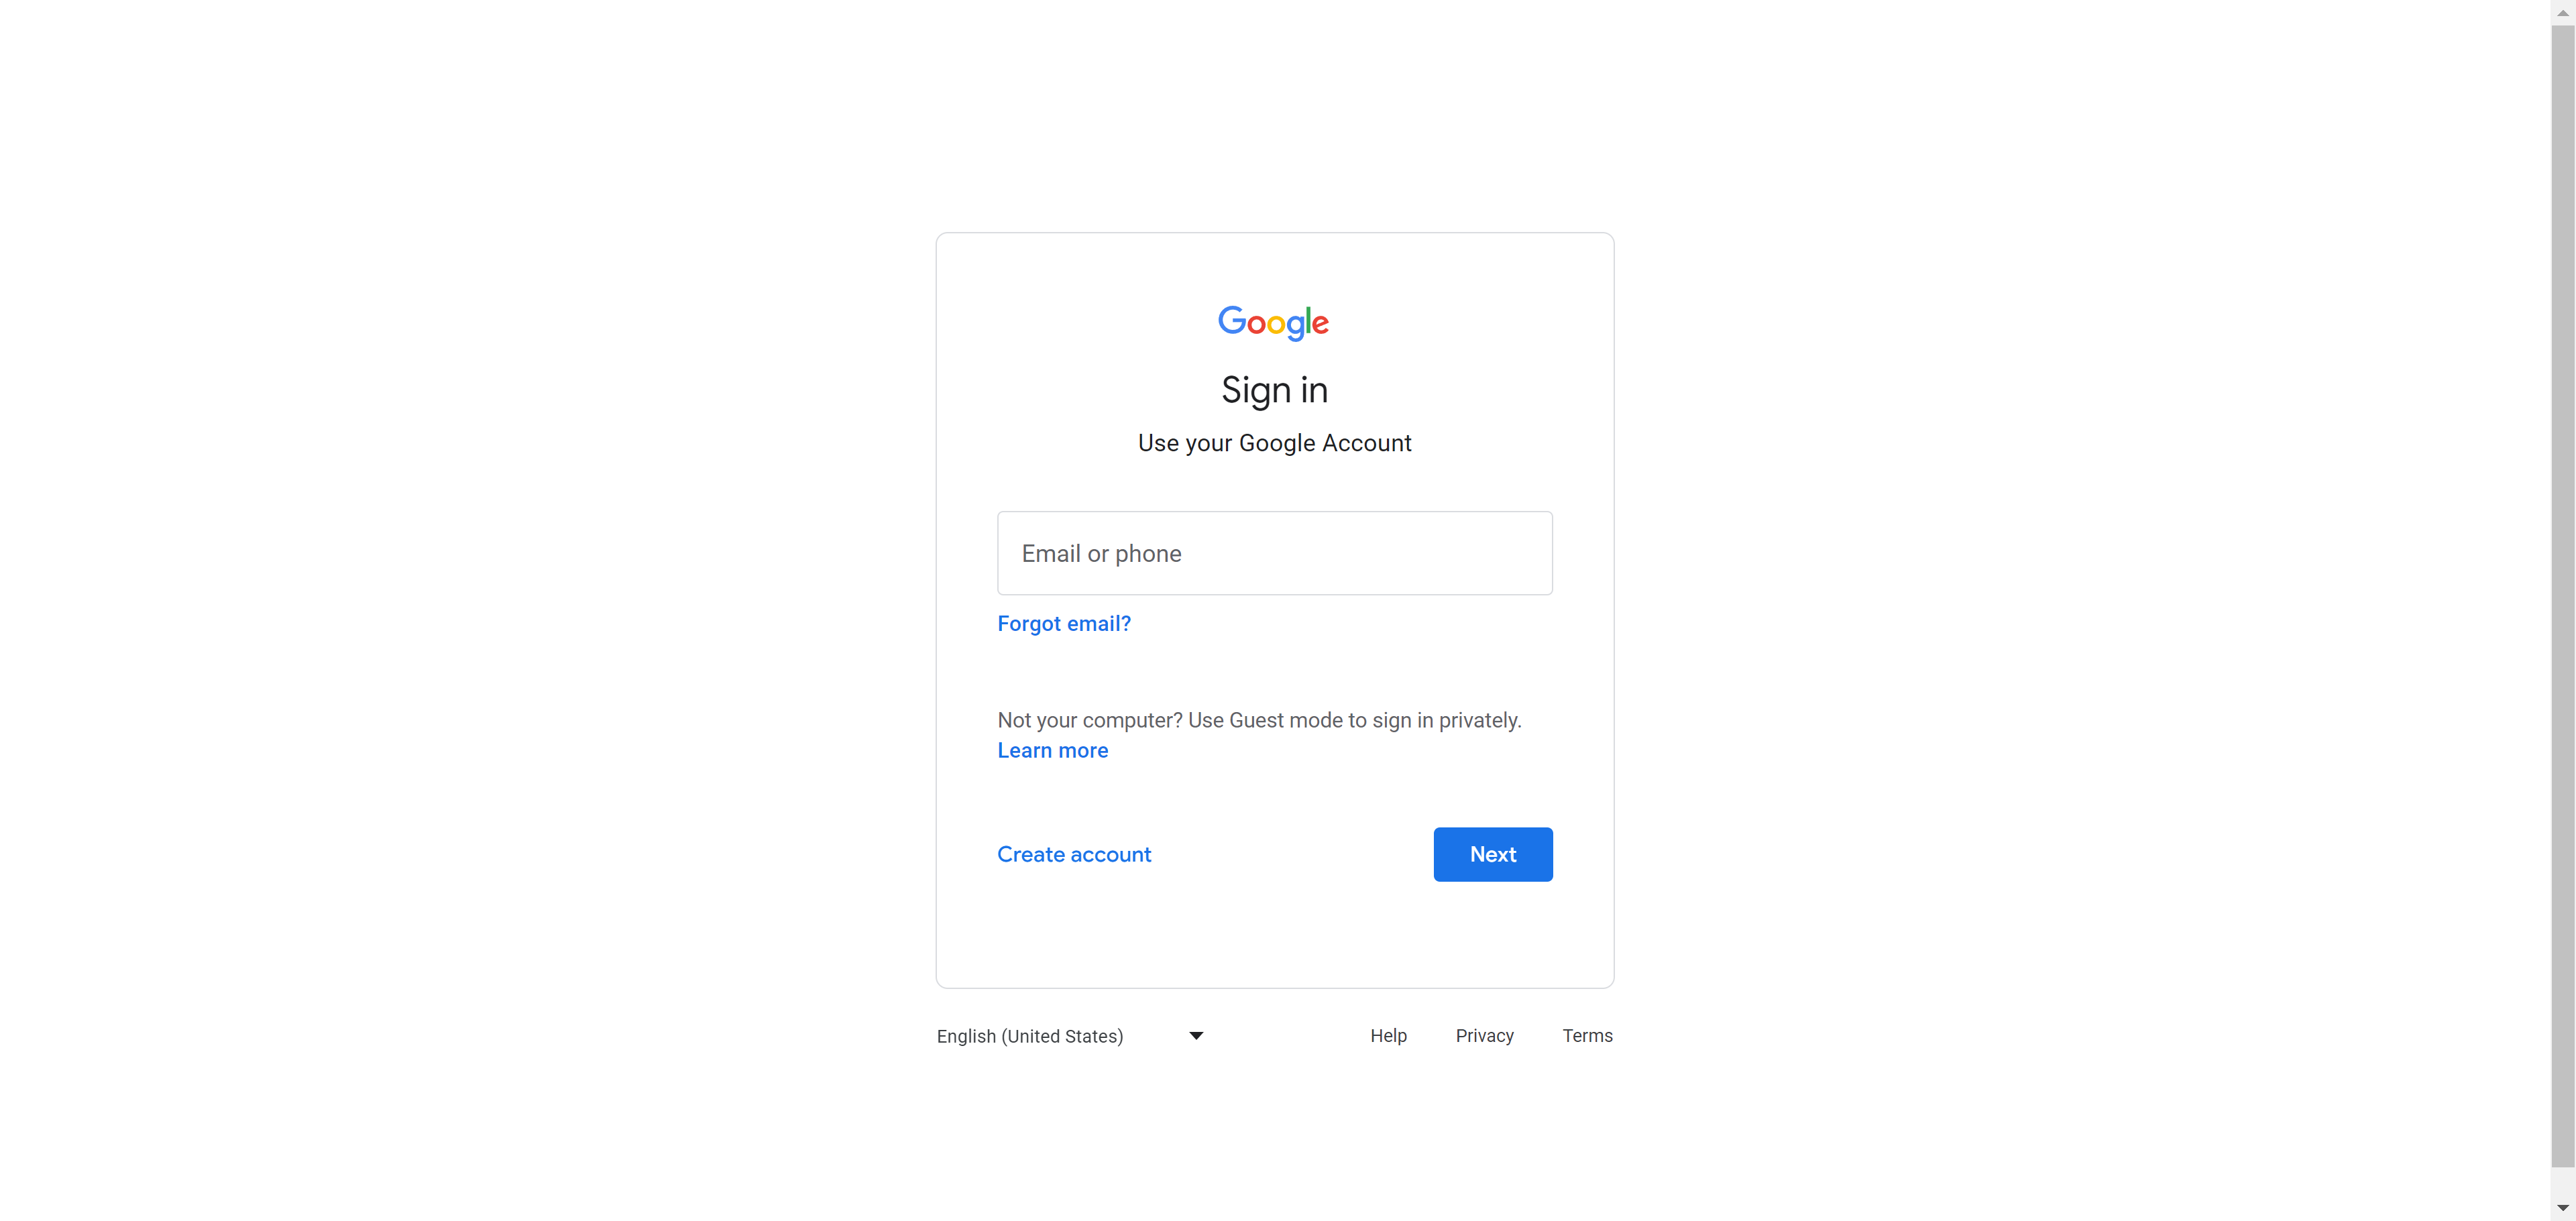login_button: (1434, 827, 1554, 881)
login_form: (982, 496, 1567, 897)
